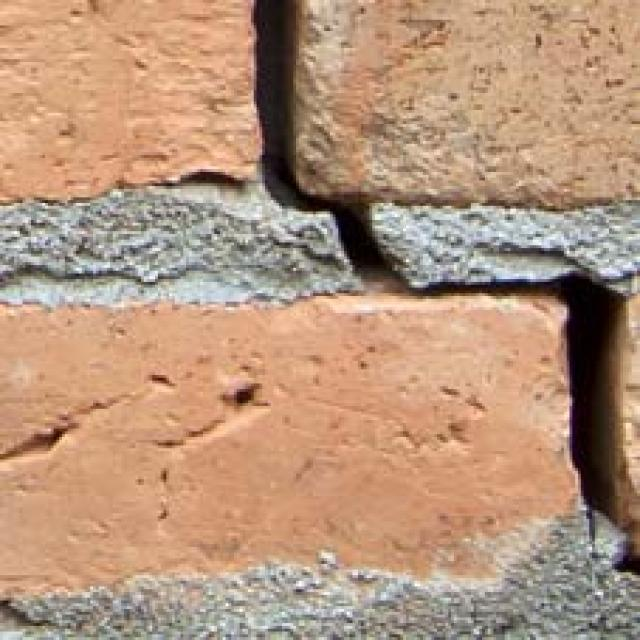Crack: (212, 0, 640, 607)
